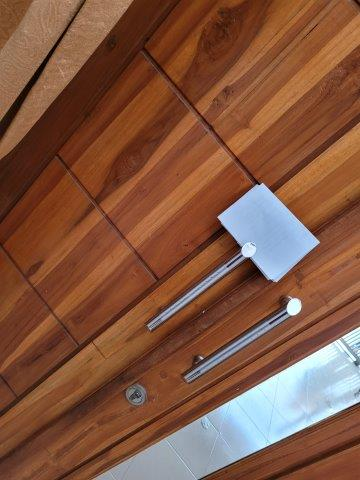kertas: (216, 185, 320, 280)
